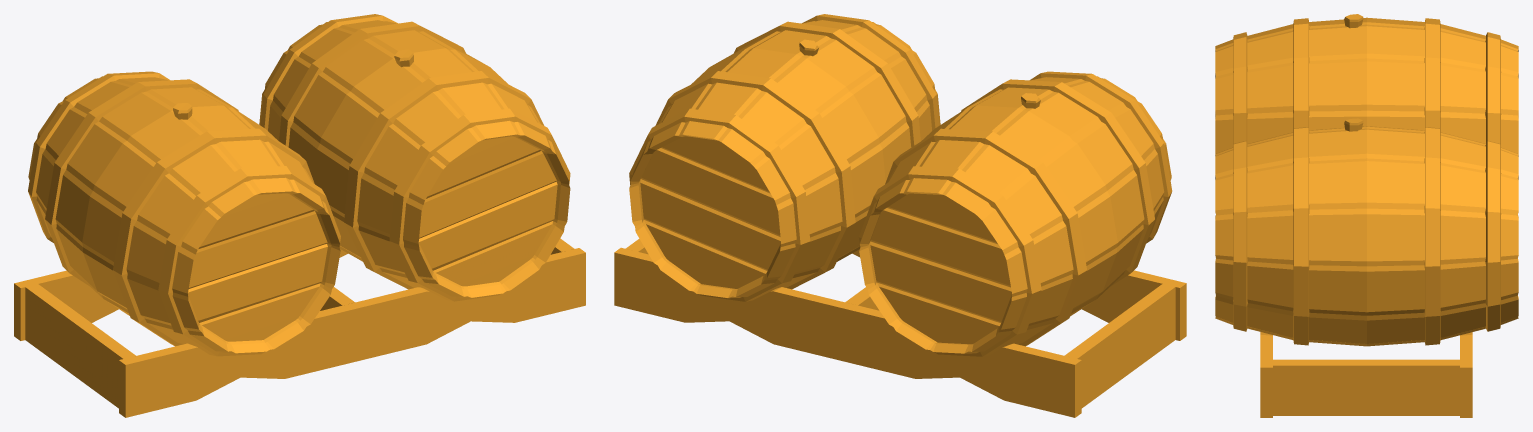
Rendered from SM_Barrel_Stand_2m.fbx.
The picture shows the model from 3 angles, left to right: view 1: azimuth 30°, elevation 25°; view 2: azimuth 150°, elevation 25°; view 3: azimuth 270°, elevation 25°; orthographic projection. The views are drawn at different scales.
Visible parts, largest first — view 1: barrel-stand-2m; view 2: barrel-stand-2m; view 3: barrel-stand-2m.
Boxes of the visible parts, x1,y1,x2,y2 form: barrel-stand-2m: [14, 14, 585, 417]; barrel-stand-2m: [614, 14, 1186, 417]; barrel-stand-2m: [1215, 14, 1518, 417].
Bounding box in the file's own units: 2 × 1.04 × 1.2.
